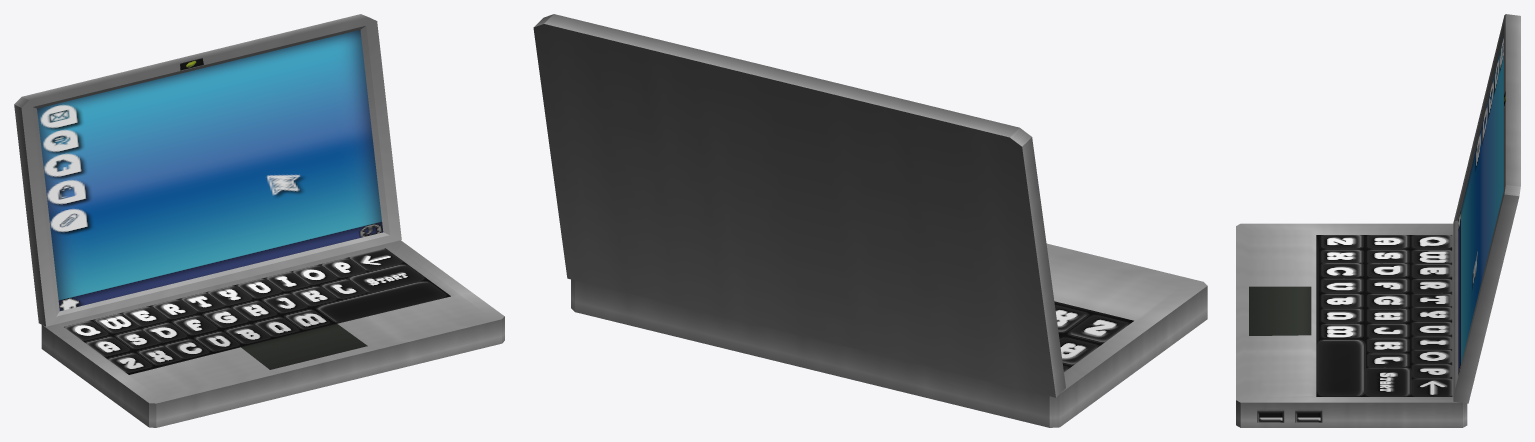
File: Laptop_03.FBX
3 views of the same model, side by side, from view 1: azimuth 30°, elevation 25°; view 2: azimuth 150°, elevation 25°; view 3: azimuth 270°, elevation 25° (orthographic). The views are drawn at different scales.
Parts seen in each view (by area): view 1: Laptop; view 2: Laptop; view 3: Laptop.
Boxes of the visible parts, <box> form: Laptop: <box>14,14,504,427</box>; Laptop: <box>533,14,1207,427</box>; Laptop: <box>1236,14,1520,427</box>.
Bounding box in the file's own units: 61.53 × 37.92 × 40.94.
